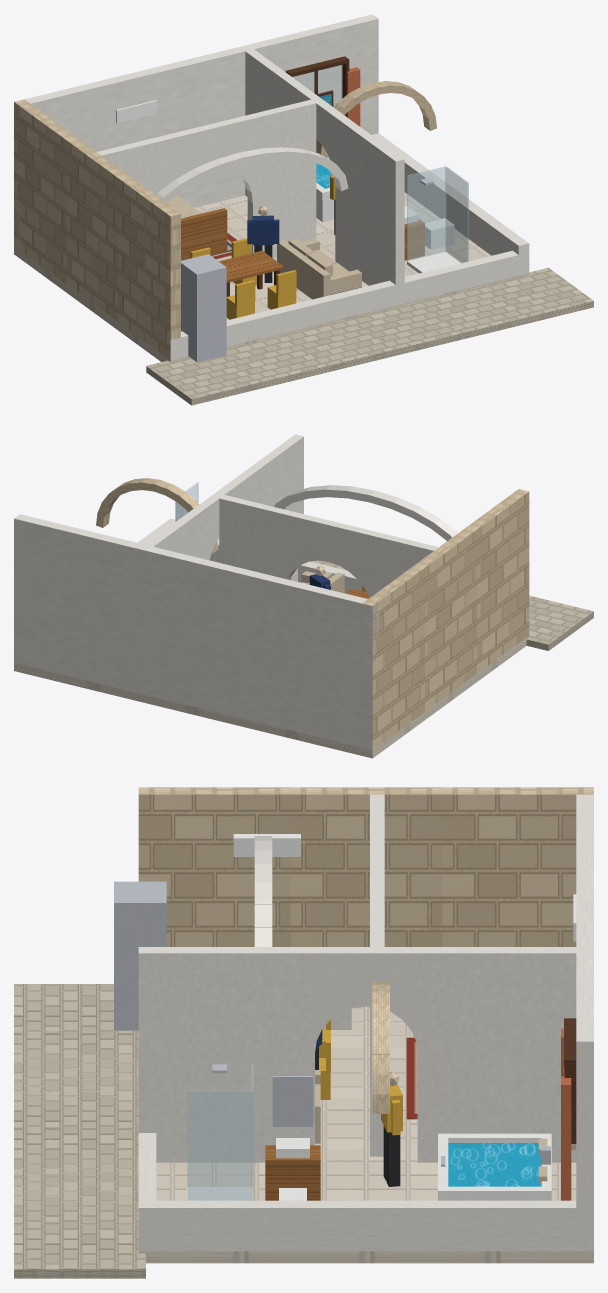
The model's file is coppia3_pietra.glb.
The picture shows the model from 3 angles, top to bottom: view 1: azimuth 30°, elevation 25°; view 2: azimuth 150°, elevation 25°; view 3: azimuth 270°, elevation 25°; orthographic projection. The views are drawn at different scales.
Parts seen in each view (by area): view 1: Wall_W, Wall_N, Alley_Paving, Div_Bed, Div_Bath, Wall_Front_Cut, Wall_E_Cut, Pietra_Kitchen_fridge, Pietra_Floor, Pietra_Shower_sh_gl1, Alley_Paving_sub, Pietra_Floor_sub (+13 smaller); view 2: Wall_N, Wall_W, Div_Bed, Div_Bath, Pietra_Floor_sub, Alley_Paving, Wall_Front_Cut, Alley_Paving_sub; view 3: Div_Bath, Wall_W, Alley_Paving, Wall_E_Cut, Pietra_Floor, Wall_N, Pietra_Shower_sh_gl2, Pietra_Floor_sub, Pietra_Kitchen_fridge, Pietra_Jacuzzi_water, Div_Bed, Pietra_Shower_vanity (+12 smaller).
Part boxes in pixels (x1,y1,x2,y2): Wall_W: (14, 99, 180, 360); Wall_N: (14, 14, 378, 249); Alley_Paving: (146, 267, 593, 398); Div_Bed: (97, 99, 316, 257); Div_Bath: (239, 45, 404, 285); Wall_Front_Cut: (170, 250, 529, 360); Wall_E_Cut: (371, 133, 529, 255); Pietra_Kitchen_fridge: (181, 254, 226, 362); Pietra_Floor: (194, 192, 491, 320); Pietra_Shower_sh_gl1: (407, 166, 445, 260); Alley_Paving_sub: (146, 301, 593, 405); Pietra_Floor_sub: (14, 246, 529, 362); Wall_N: (14, 514, 378, 750); Wall_W: (362, 489, 529, 749); Div_Bed: (219, 495, 438, 597); Div_Bath: (139, 434, 303, 650); Pietra_Floor_sub: (14, 636, 529, 758); Alley_Paving: (218, 538, 593, 644); Wall_Front_Cut: (210, 539, 361, 592); Alley_Paving_sub: (526, 611, 593, 650); Div_Bath: (138, 947, 593, 1162); Wall_W: (138, 787, 593, 946); Alley_Paving: (14, 984, 145, 1269); Wall_E_Cut: (138, 1200, 576, 1251); Pietra_Floor: (156, 1006, 576, 1200); Wall_N: (576, 794, 593, 1251); Pietra_Shower_sh_gl2: (187, 1090, 251, 1200); Pietra_Floor_sub: (138, 1251, 593, 1263); Pietra_Kitchen_fridge: (114, 881, 166, 1030); Pietra_Jacuzzi_water: (448, 1143, 541, 1186); Div_Bed: (370, 794, 384, 1156); Pietra_Shower_vanity: (265, 1145, 320, 1200).
Size of the model in its own units: 9.2 by 3.38 by 7.9.
Materials: 17 (17 with a texture image).
